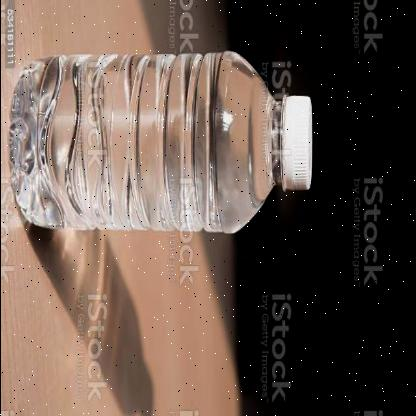Plastic Bottle: (8, 51, 311, 233)
